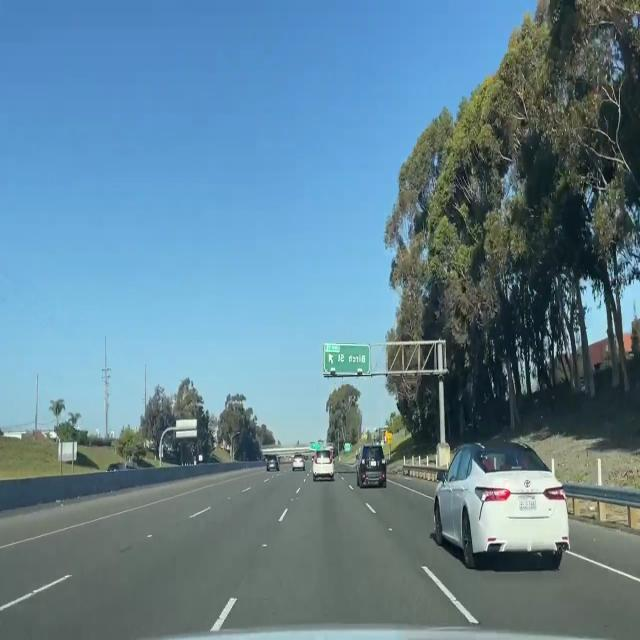street-signs: (323, 341, 371, 375), (310, 442, 322, 451), (345, 442, 351, 452)
